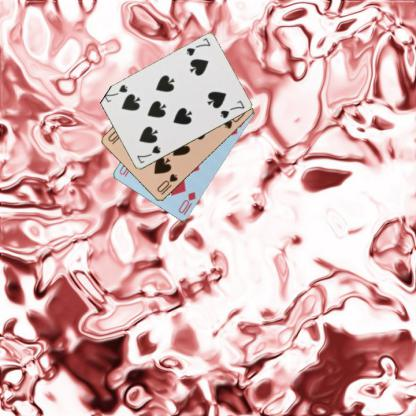10d: (176, 190, 197, 216)
10s: (154, 171, 179, 194)
7s: (134, 144, 162, 166), (184, 36, 211, 57)
